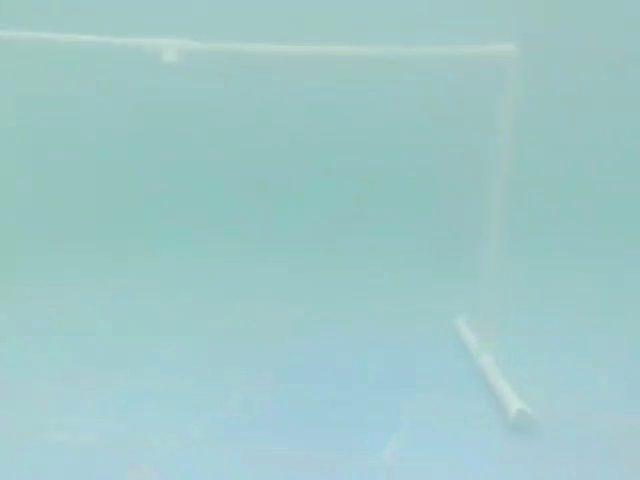gate: (5, 12, 548, 450)
